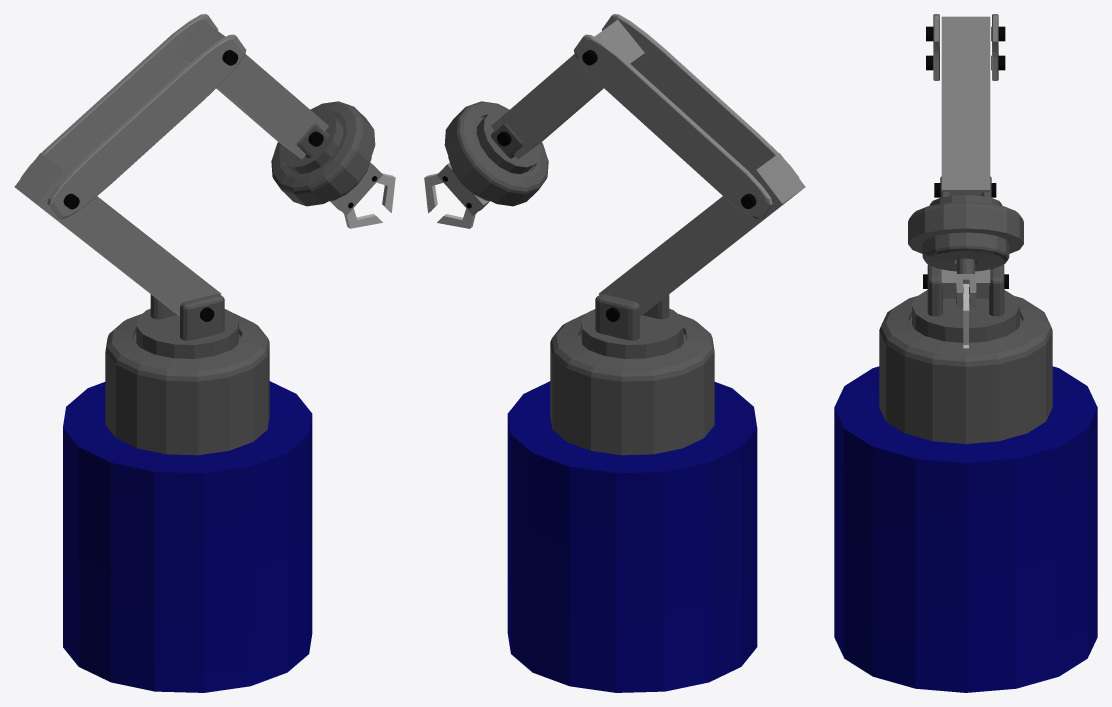
Rendered from SM_Prop_MetalArm_01.fbx.
The picture shows the model from 3 angles, left to right: view 1: azimuth 30°, elevation 25°; view 2: azimuth 150°, elevation 25°; view 3: azimuth 270°, elevation 25°; orthographic projection. The views are drawn at different scales.
Parts seen in each view (by area): view 1: manorobotica; view 2: manorobotica; view 3: manorobotica.
Boxes of the visible parts, left/top/right/bottom form: manorobotica: left=14, top=14, right=395, bottom=692; manorobotica: left=424, top=14, right=805, bottom=692; manorobotica: left=834, top=14, right=1097, bottom=692.
Size of the model in its own units: 1.48 by 2.33 by 0.8742.
2 materials, 2 textured.
